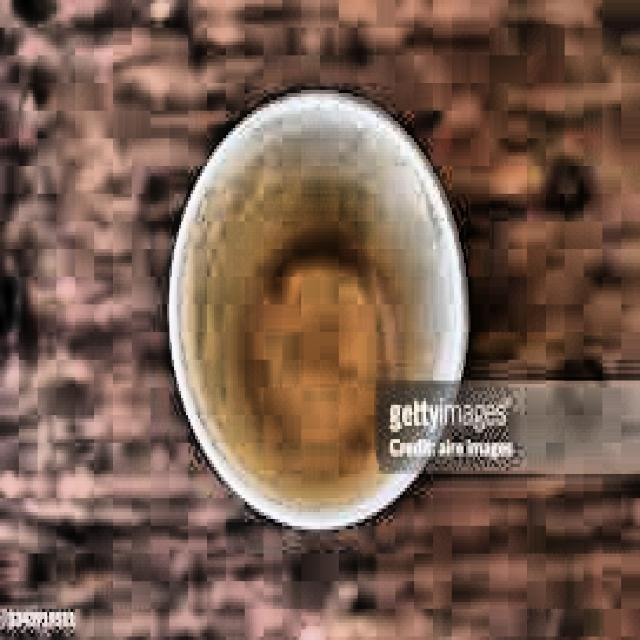Cup: (166, 79, 474, 558)
